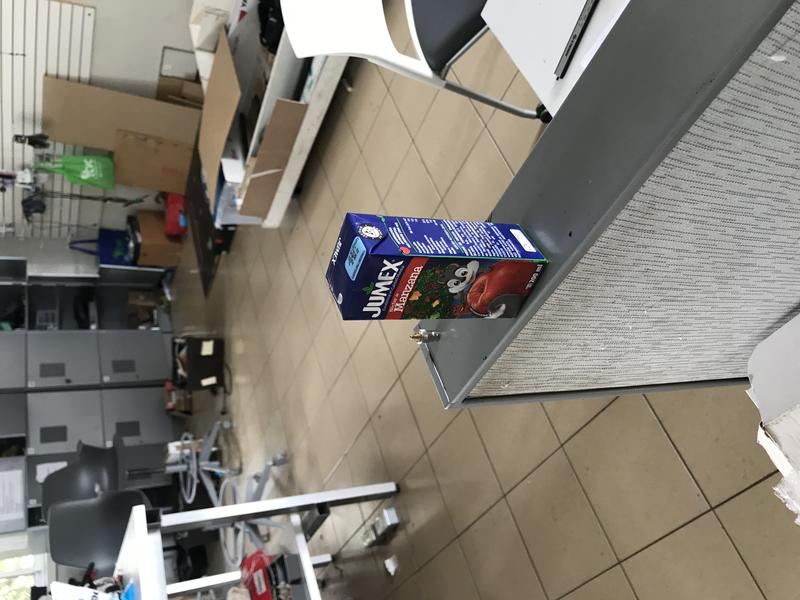jumex_cajita: (324, 213, 550, 322)
